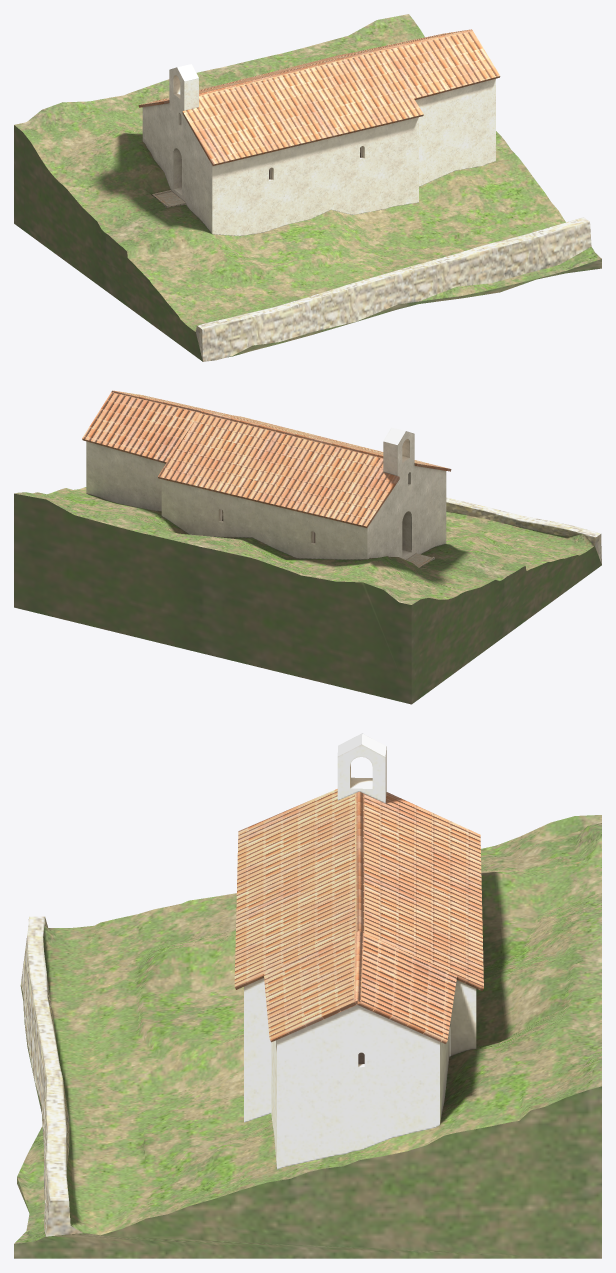
The model's file is pedret_IX.glb.
3 views of the same model, one above another, from view 1: azimuth 30°, elevation 25°; view 2: azimuth 150°, elevation 25°; view 3: azimuth 270°, elevation 25° (orthographic). The views are drawn at different scales.
Visible parts, largest first — view 1: PEDRET_IX; view 2: PEDRET_IX; view 3: PEDRET_IX.
Part boxes in pixels (box(x1,y1,x2,y2)): PEDRET_IX: box(14, 14, 601, 361); PEDRET_IX: box(14, 390, 601, 704); PEDRET_IX: box(14, 733, 601, 1258).
Bounding box in the file's own units: 21 × 9.87 × 17.78.
Materials: 1 (1 with a texture image).
